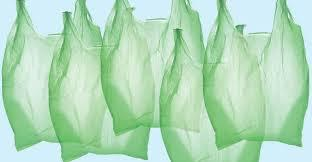Plastic bag: (105, 0, 218, 149), (159, 25, 275, 162), (205, 4, 308, 154), (55, 0, 150, 161), (4, 3, 79, 154)
